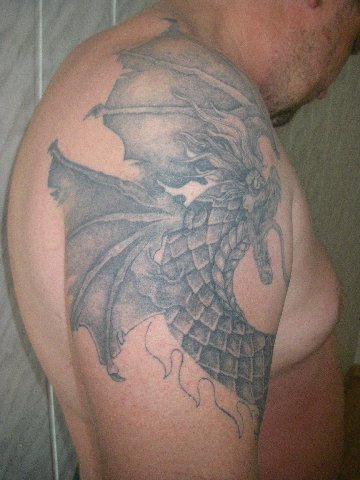tatu6_drakon: (31, 14, 329, 453)
